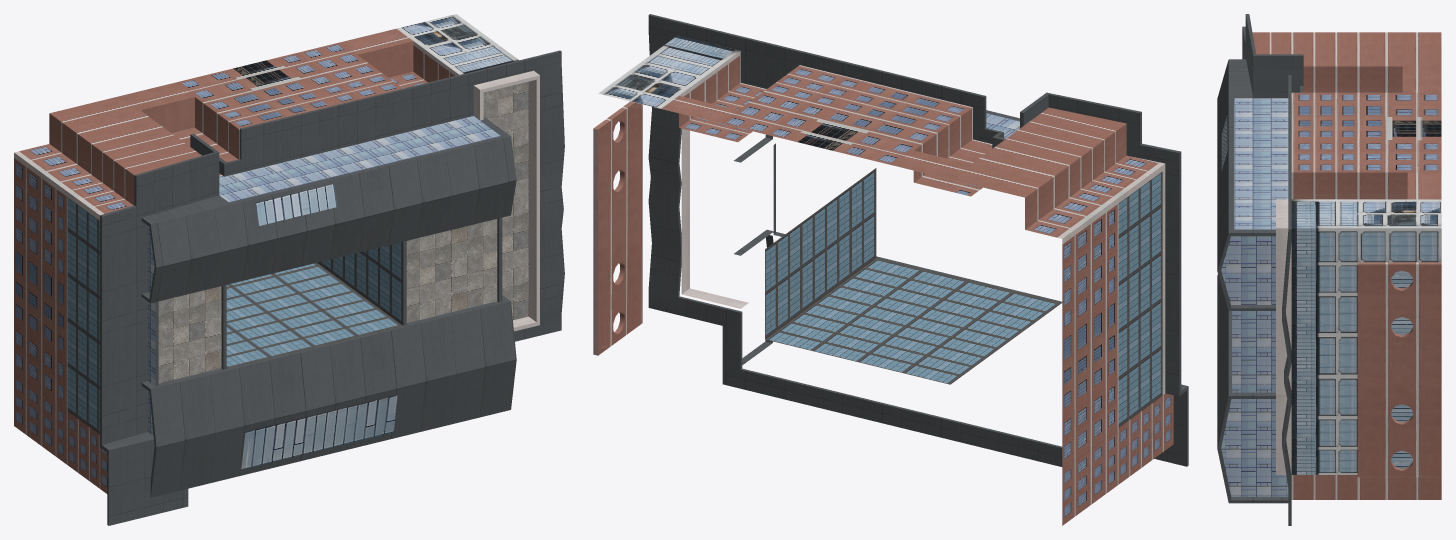
Rendered from sgy_h1.gltf.
3 renders of one model, left to right at view 1: azimuth 30°, elevation 25°; view 2: azimuth 150°, elevation 25°; view 3: azimuth 270°, elevation 25°, orthographic. The views are drawn at different scales.
Parts seen in each view (by area): view 1: Box001; view 2: Box001; view 3: Box001.
Boxes of the visible parts, box(x1,y1,x2,y2) form: Box001: box(14, 14, 564, 525); Box001: box(593, 14, 1188, 525); Box001: box(1217, 14, 1441, 525).
Bounding box in the file's own units: 122 × 80.58 × 49.5.
Materials: 9 (9 with a texture image).
